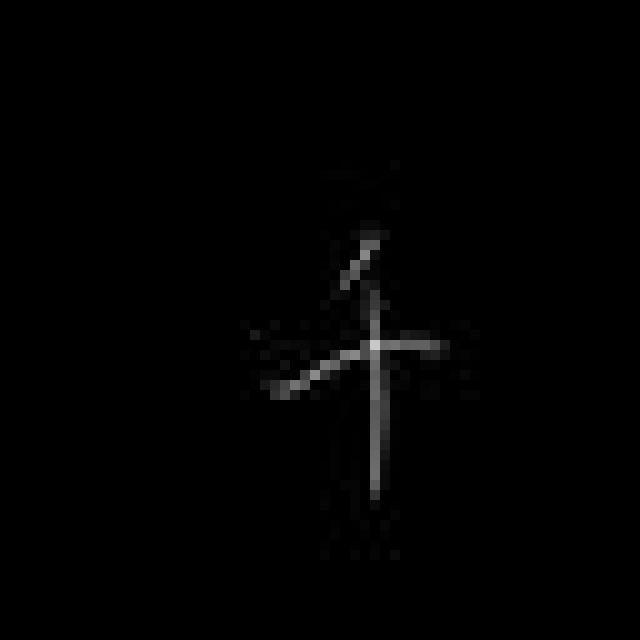1000 -a thousand-: (263, 220, 450, 502)
